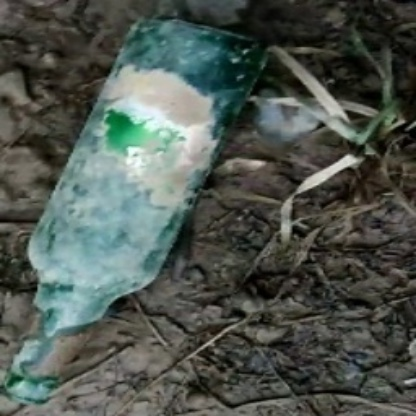bottle: (9, 8, 259, 401)
